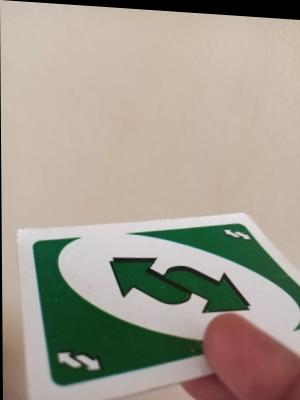green: (32, 237, 273, 330)
reverse: (50, 347, 101, 380), (217, 219, 254, 244)
